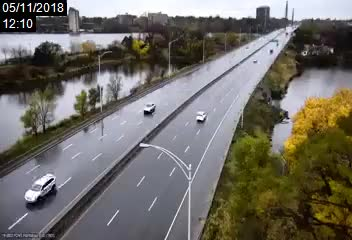personal_car: (23, 173, 57, 205), (193, 110, 210, 123), (143, 102, 156, 116)
